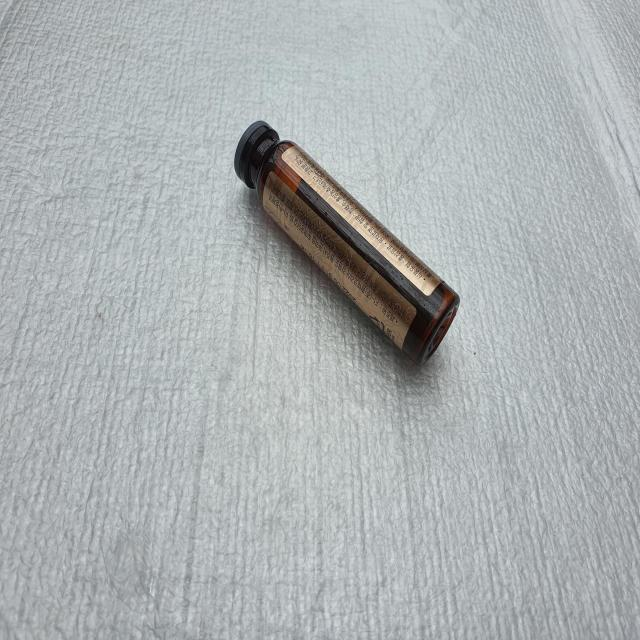glass: (234, 120, 460, 363)
